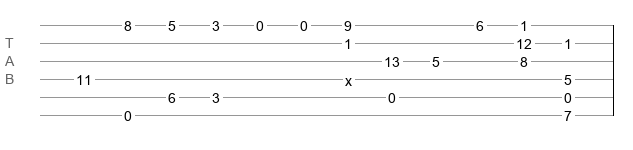0: (124, 108, 132, 118), (256, 18, 264, 28), (300, 18, 308, 28), (388, 90, 396, 100), (564, 90, 572, 100)
1: (344, 36, 352, 46), (520, 18, 528, 28), (564, 36, 572, 46)
11: (76, 72, 92, 82)
12: (516, 36, 532, 46)
13: (384, 54, 400, 64)
3: (212, 90, 220, 100), (212, 18, 220, 28)
5: (168, 18, 176, 28), (432, 54, 440, 64), (564, 72, 572, 82)
6: (168, 90, 176, 100), (476, 18, 484, 28)
7: (564, 108, 572, 118)
8: (124, 18, 132, 28), (520, 54, 528, 64)
9: (344, 18, 352, 28)
x: (345, 73, 352, 81)
